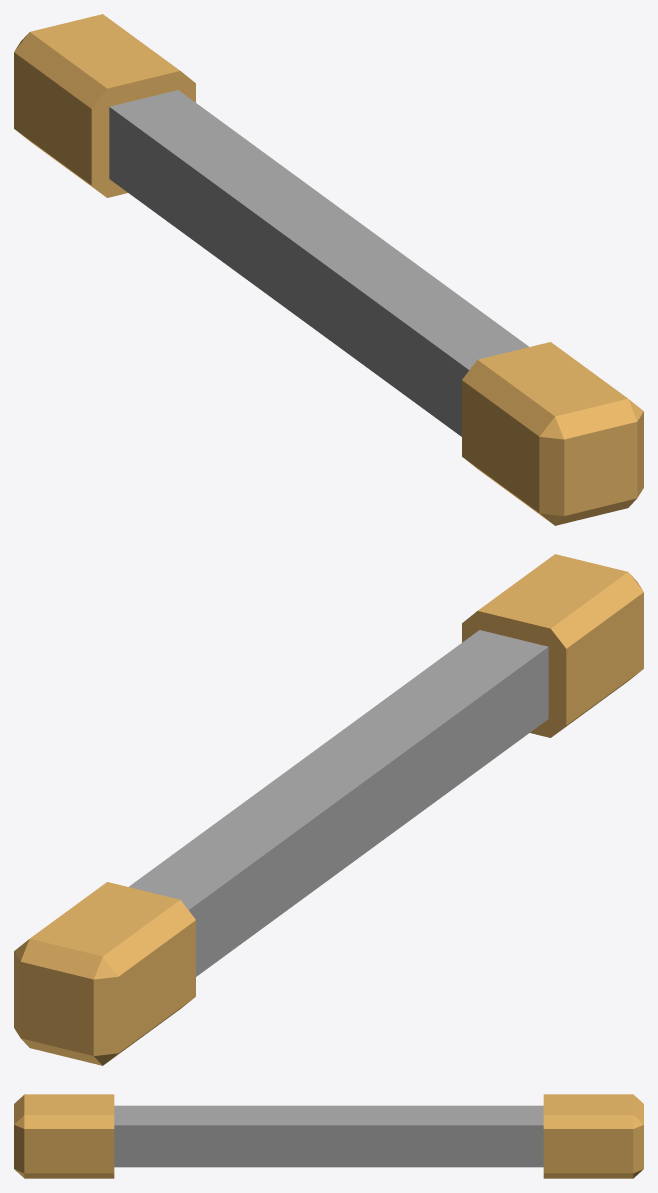
Rendered from SM_FloorBlock.fbx.
3 renders of one model, top to bottom at view 1: azimuth 30°, elevation 25°; view 2: azimuth 150°, elevation 25°; view 3: azimuth 270°, elevation 25°, orthographic. The views are drawn at different scales.
Visible parts, largest first — view 1: SM_FloorBlock; view 2: SM_FloorBlock; view 3: SM_FloorBlock.
Boxes of the visible parts, bbox=[...] form: SM_FloorBlock: bbox=[14, 14, 643, 525]; SM_FloorBlock: bbox=[14, 554, 643, 1065]; SM_FloorBlock: bbox=[14, 1094, 643, 1178].
Bounding box in the file's own units: 0.3331 × 0.3331 × 3.
